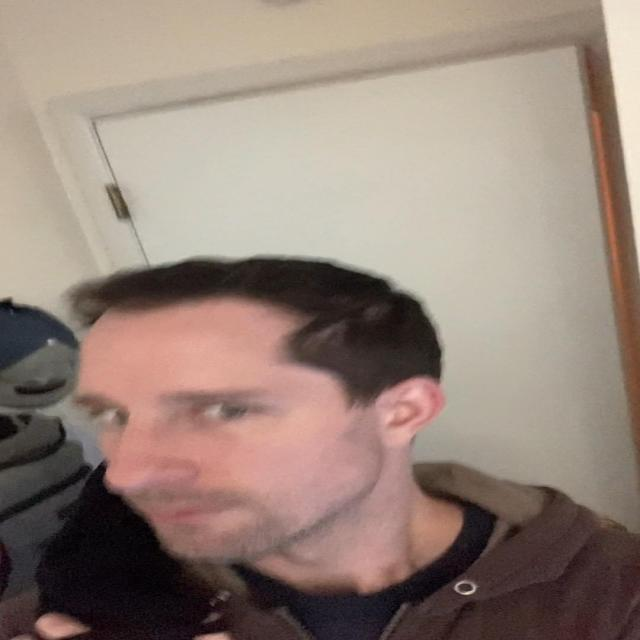no hat: (78, 283, 428, 590)
